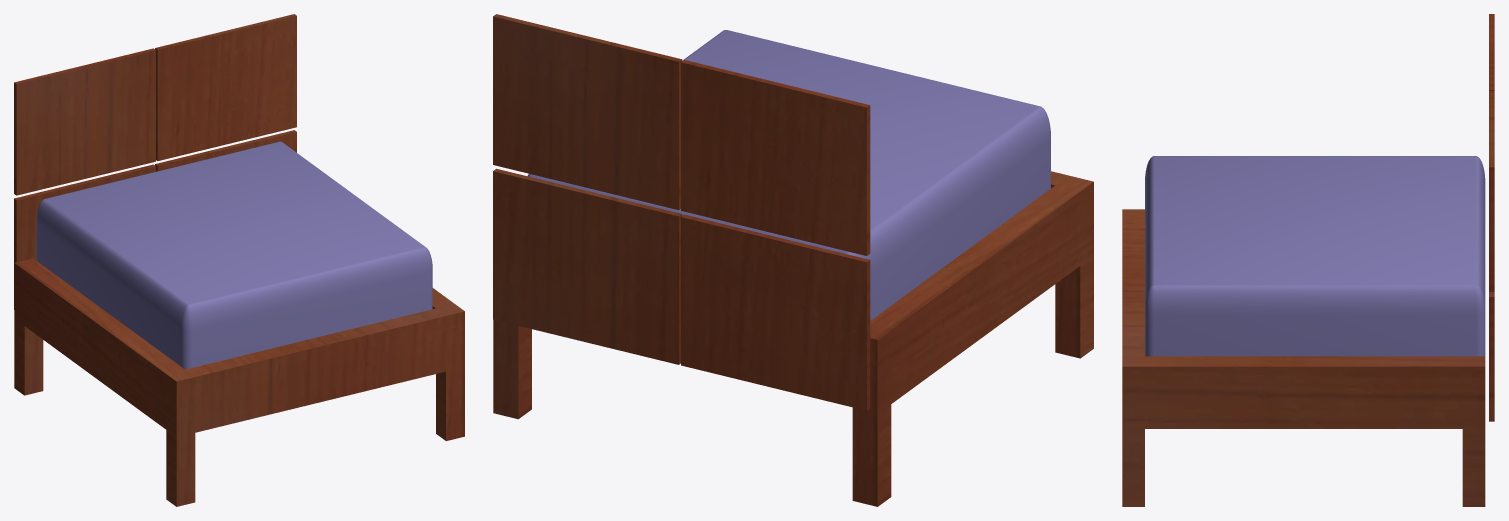
The model's file is sh-lp-letto-ciliegio.glb.
3 renders of one model, left to right at view 1: azimuth 30°, elevation 25°; view 2: azimuth 150°, elevation 25°; view 3: azimuth 270°, elevation 25°, orthographic. The views are drawn at different scales.
Parts seen in each view (by area): view 1: Box35_2, ChamferBox01_1; view 2: Box35_2, ChamferBox01_1; view 3: ChamferBox01_1, Box35_2.
Part boxes in pixels (left/top/right/bottom): Box35_2: left=14, top=14, right=464, bottom=506; ChamferBox01_1: left=36, top=141, right=432, bottom=369; Box35_2: left=493, top=14, right=1093, bottom=506; ChamferBox01_1: left=527, top=30, right=1050, bottom=320; ChamferBox01_1: left=1145, top=156, right=1485, bottom=356; Box35_2: left=1122, top=14, right=1494, bottom=506.
Size of the model in its own units: 1 by 1 by 1.
2 materials, 1 textured.
